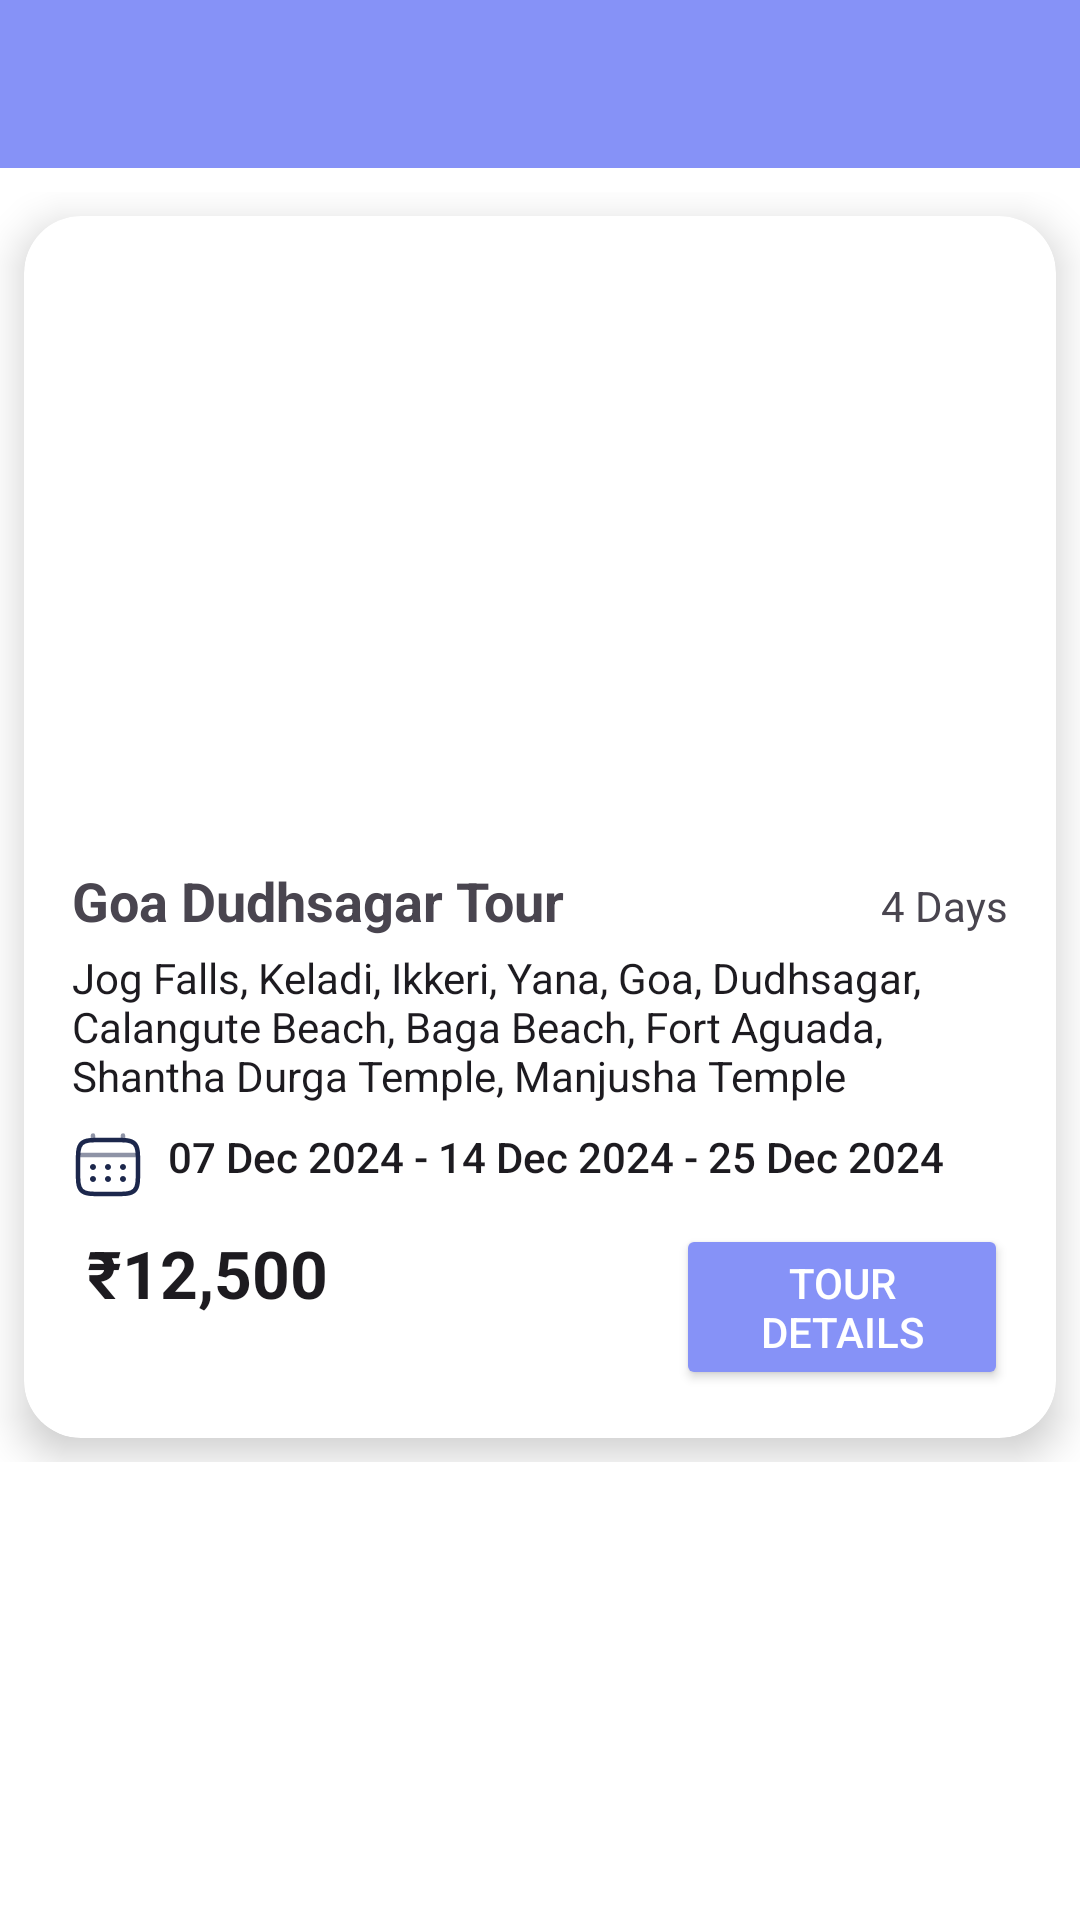

Named icons in this screenshot (1080px×1920px) and their bounding boxes, (x1, y1, x2, y2):
Calendar Icon: (75, 1133, 141, 1197)
